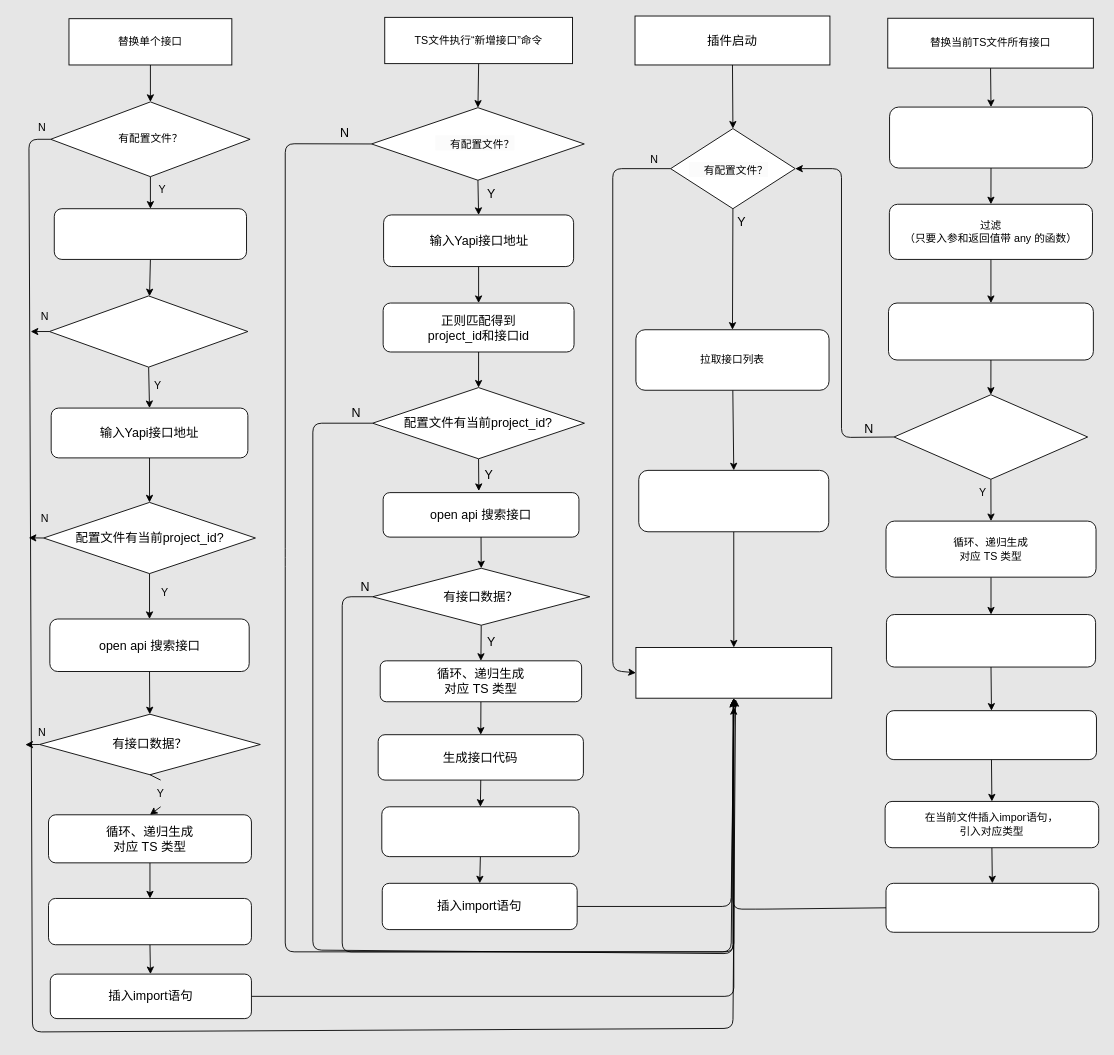
Image size: 1114x1055. Some labels were removed from this diagram. The shapes that lost their labels are listed below. From the top down, each one's centre as x and y in pixels, then its label:
At (x=990, y=137): "将当前文件内容转成 AST，找到所有接口函数".
At (x=150, y=233): "将当前文件解析成AST，判断选中文本在哪个接口函数".
At (x=148, y=331): "是接口函数？".
At (x=990, y=331): "对接口函数进行正则匹配，得到 path 和 method".
At (x=990, y=436): "有接口缓存文件？".
At (x=733, y=500): "更新接口缓存文件".
At (x=991, y=640): "调用VSCode APi 将生成的类型写入./types.ts".
At (x=733, y=672): "结束".
At (x=991, y=735): "替换接口 any 为对应类型".
At (x=480, y=831): "调用VSCode API在当前文件 插入代码".
At (x=149, y=921): "调用VSCode API在替换 代码".
At (x=992, y=907): "生成记录 （失败数、成功数）".
